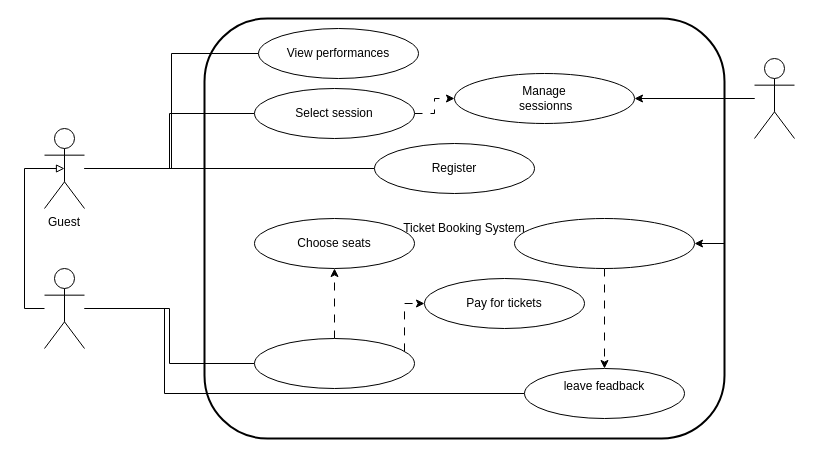
Image size: 827x456. Some labels were removed from this diagram. The centre of each missing label's shape, as x and y in pixels:
Administrator: point (774, 98)
Book tickets: point (334, 363)
read feadback: point (604, 243)
Registered User: point (64, 308)
